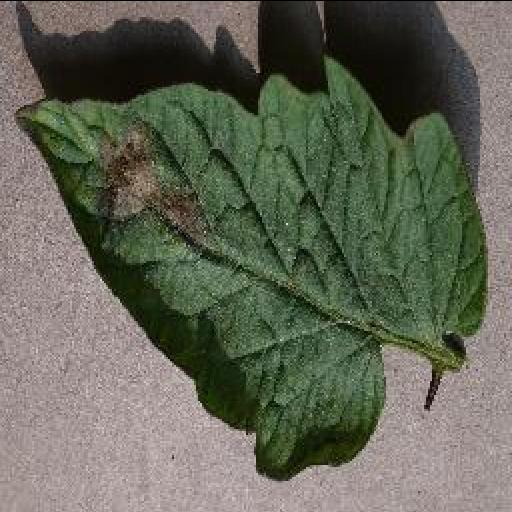disease_tomato: (14, 50, 494, 480)
